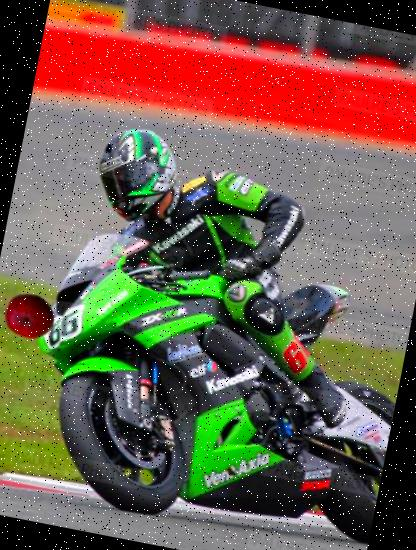Mango: (0, 286, 59, 346)
